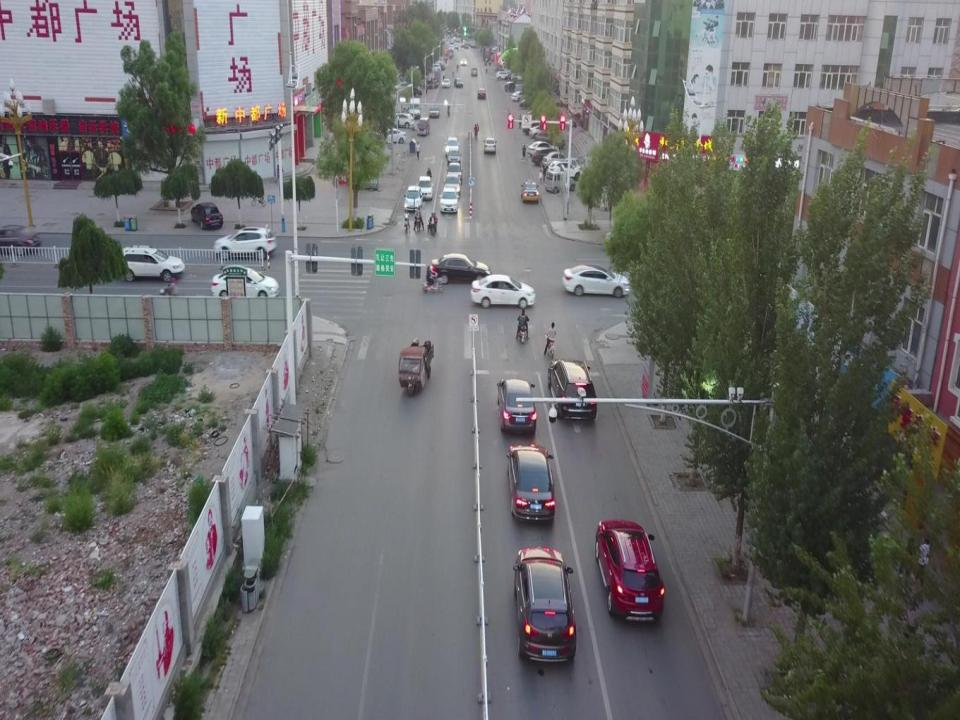car: (593, 513, 666, 625), (514, 543, 577, 665), (506, 438, 561, 527), (548, 355, 599, 423), (109, 242, 184, 278), (497, 378, 541, 437), (207, 266, 278, 302), (562, 264, 632, 300), (470, 274, 534, 307), (209, 227, 277, 256), (430, 251, 489, 284), (190, 200, 224, 230), (548, 159, 584, 180), (542, 150, 578, 170), (533, 145, 568, 165), (375, 125, 406, 144), (532, 127, 560, 147), (522, 114, 550, 134), (528, 141, 560, 158), (404, 184, 423, 211), (440, 188, 459, 214), (528, 121, 556, 138), (388, 110, 414, 128), (416, 176, 434, 199), (445, 160, 463, 182), (520, 180, 538, 201), (443, 173, 460, 195), (407, 96, 421, 116), (482, 138, 497, 156), (447, 146, 460, 166), (519, 95, 537, 108), (444, 137, 459, 152), (398, 87, 422, 96), (392, 81, 416, 90), (511, 89, 529, 100), (429, 104, 440, 118), (425, 77, 438, 88), (477, 88, 487, 100), (453, 76, 463, 88), (504, 79, 516, 89), (441, 77, 450, 88), (469, 65, 478, 75), (460, 57, 468, 68)
van: (546, 169, 575, 193), (416, 116, 429, 136)
